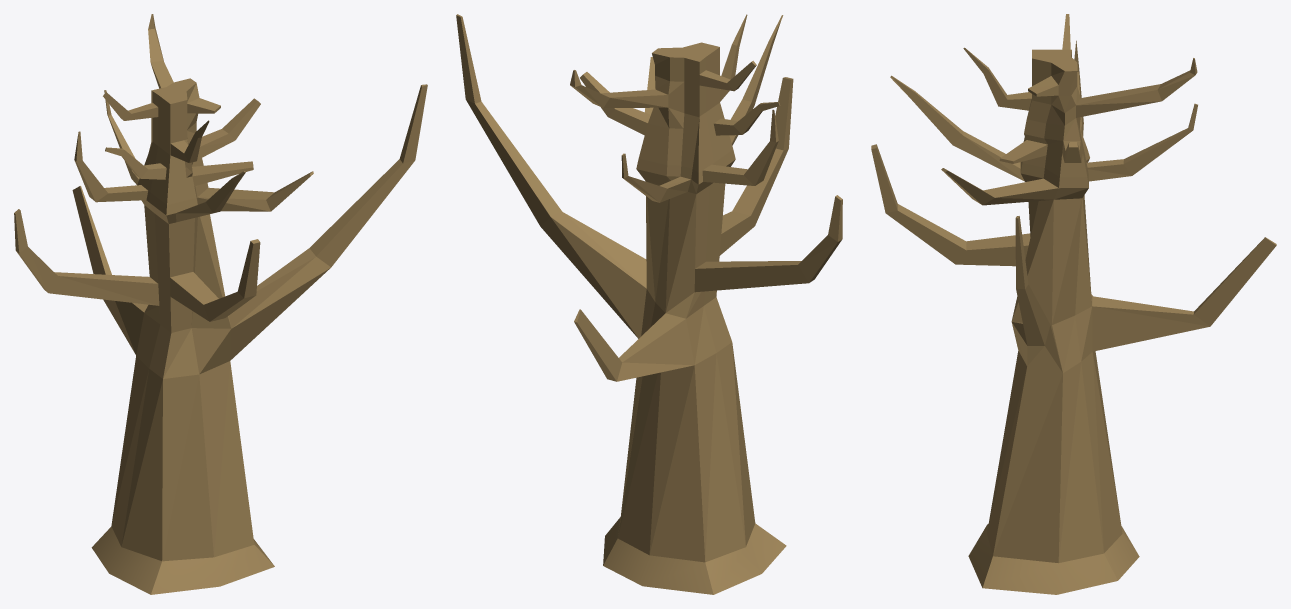
File: arbolT.FBX
3 views of the same model, side by side, from view 1: azimuth 30°, elevation 25°; view 2: azimuth 150°, elevation 25°; view 3: azimuth 270°, elevation 25° (orthographic). The views are drawn at different scales.
Parts seen in each view (by area): view 1: Box001; view 2: Box001; view 3: Box001.
Part boxes in pixels (x1,y1,x2,y2): Box001: [14, 14, 427, 594]; Box001: [456, 14, 842, 594]; Box001: [871, 14, 1276, 594].
Size of the model in its own units: 124 by 150 by 106.
